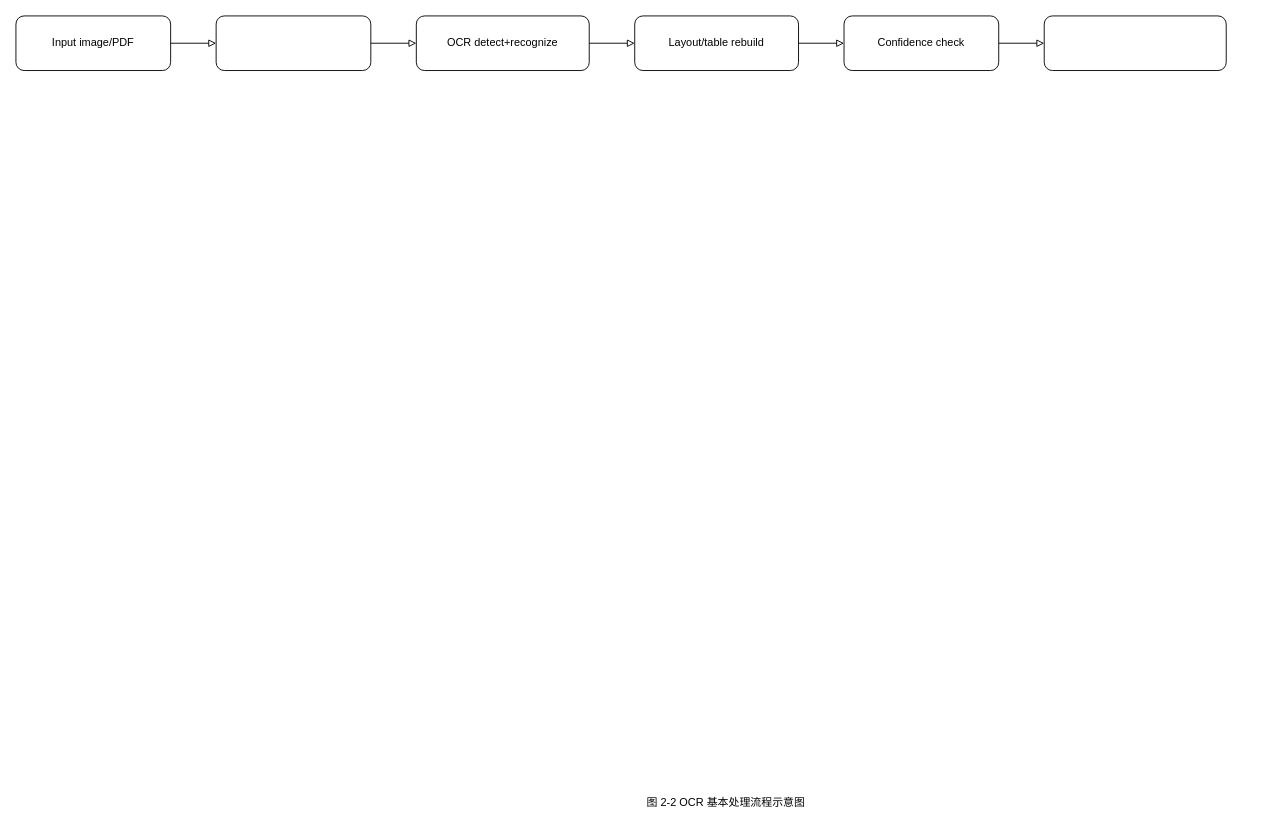
This 1288x833 diagram has some shape labels left out. Each missing label, with the centre of its shape:
"Preprocess" goes at point (293, 43).
"Structured OCR result" goes at point (1134, 43).
